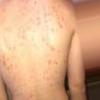Acne: (42, 47, 68, 90), (18, 0, 41, 39), (41, 6, 66, 38), (0, 48, 21, 74)
